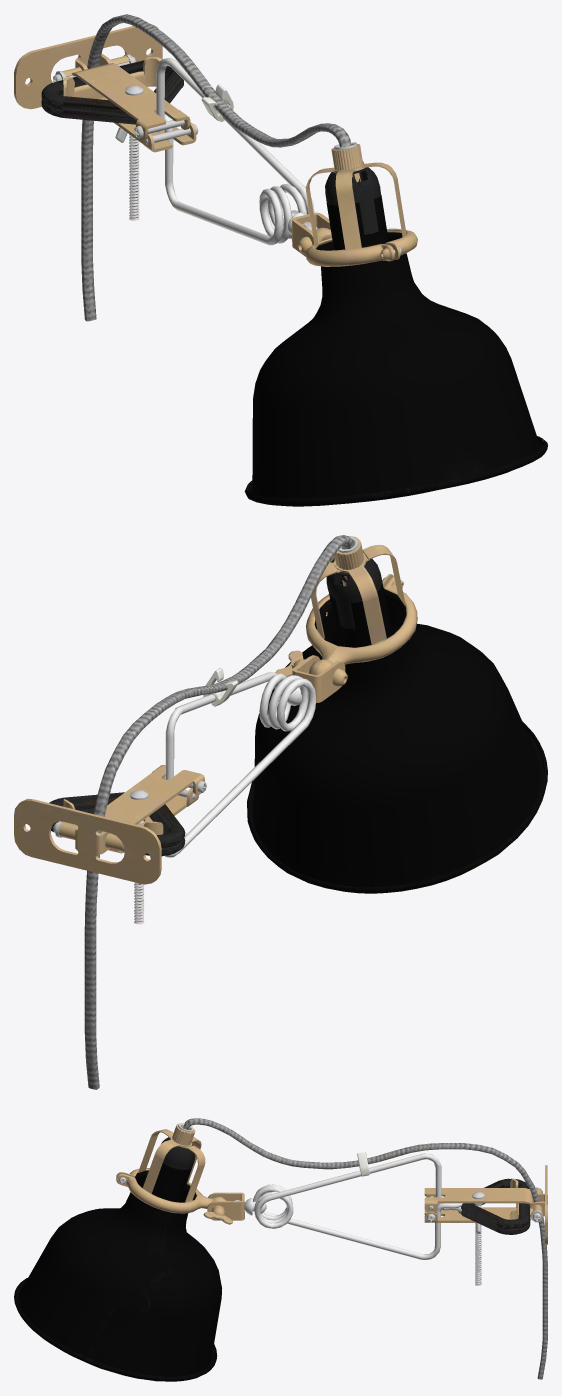
File: LB-LR-SCONCE-03.glb
3 views of the same model, one above another, from view 1: azimuth 30°, elevation 25°; view 2: azimuth 150°, elevation 25°; view 3: azimuth 270°, elevation 25° (orthographic). The views are drawn at different scales.
Visible parts, largest first — view 1: 70331394-RANARP001; view 2: 70331394-RANARP001; view 3: 70331394-RANARP001.
Boxes of the visible parts, bbox=[...] form: 70331394-RANARP001: bbox=[14, 14, 547, 506]; 70331394-RANARP001: bbox=[14, 535, 547, 1089]; 70331394-RANARP001: bbox=[14, 1118, 547, 1381].
Bounding box in the file's own units: 0.1483 × 0.1989 × 0.3712.
1 material, 1 textured.
